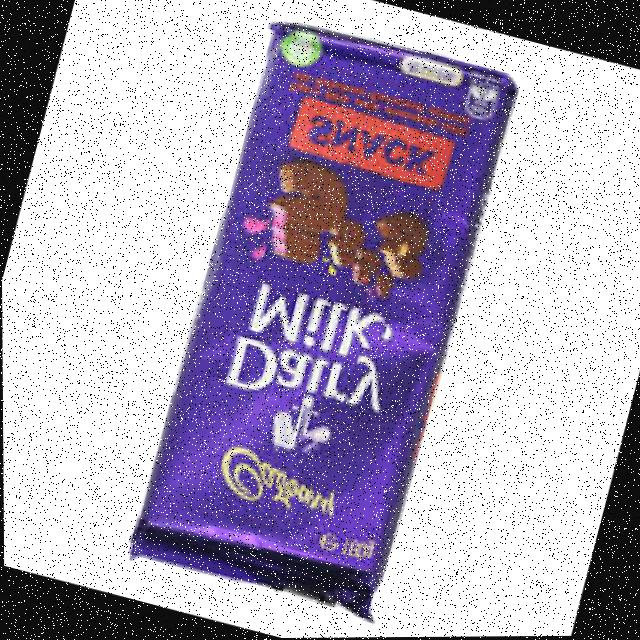cadbury: (131, 13, 524, 617)
